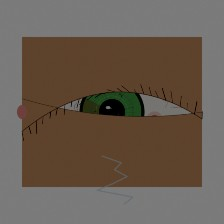foreign_body_visible: (153, 81, 183, 105)
